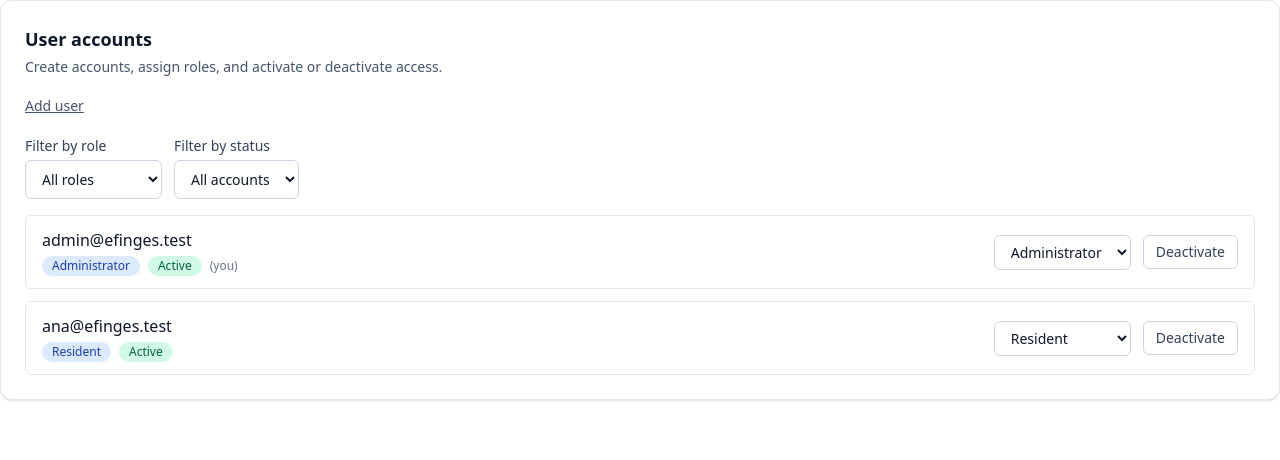
Test: UsersSection › refuses to deactivate the signed-in administrator
This screenshot has width=1280, height=460.
Expected: the list item with test id "user-1" is shown, left=25, top=215, right=1255, bottom=289
What coordinates should you click on to do the following:
click the button "Deactivate" in the row of "admin@efinges.test"
I would click on:
 (1190, 252)
Its box is left=1143, top=235, right=1238, bottom=269.
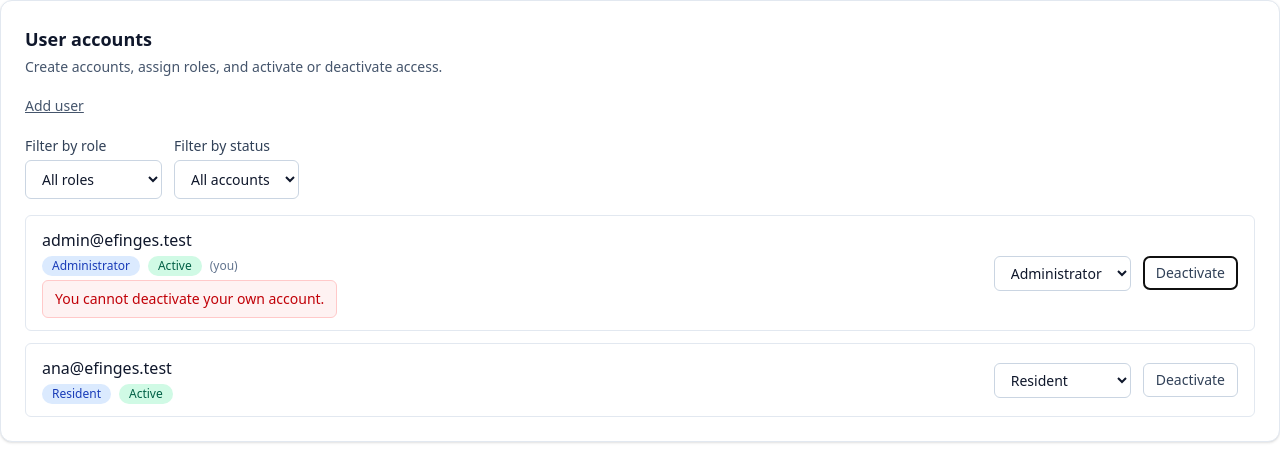
Expected: the text "You cannot deactivate your own account." is shown, left=42, top=280, right=337, bottom=318
